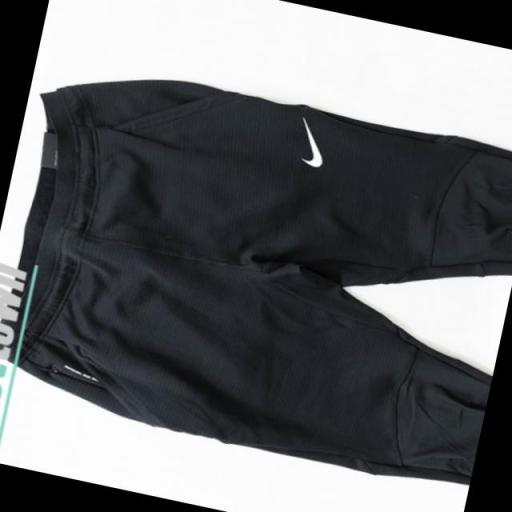Nike: (278, 111, 335, 180)
